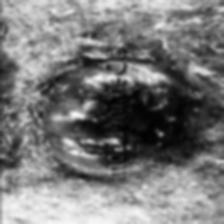Potentially Malignant Skin Tumors: (44, 58, 104, 178), (132, 57, 178, 174)
